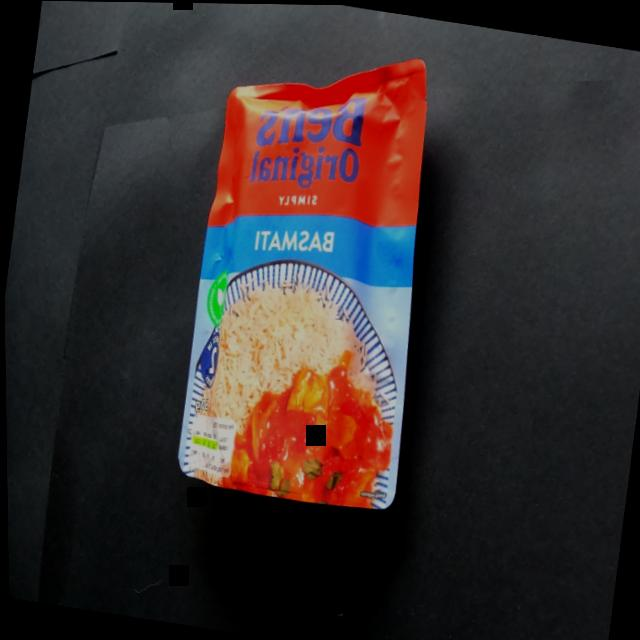Basmatirice: (157, 13, 462, 527)
